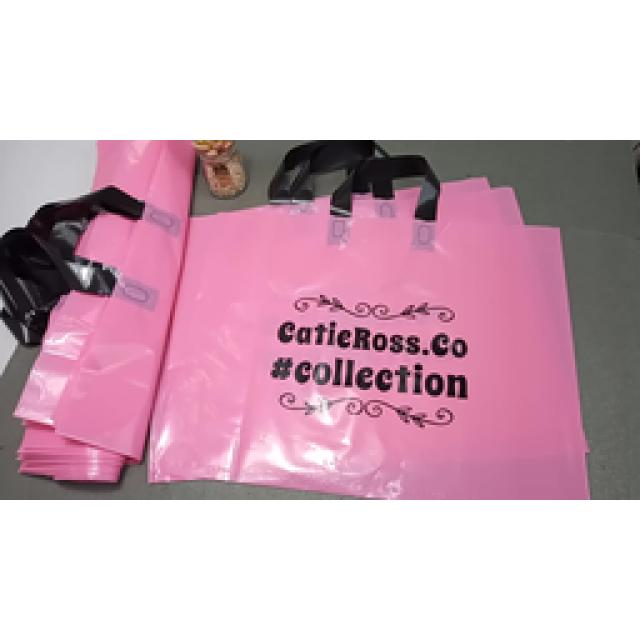plastic: (0, 140, 588, 498)
